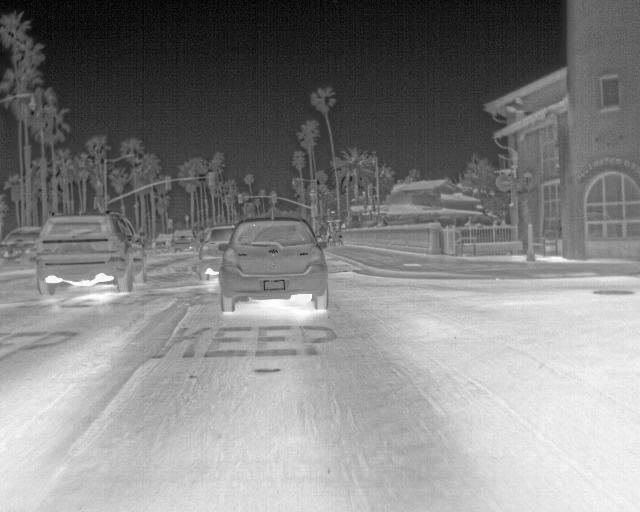bicycle: (219, 216, 332, 313), (34, 211, 146, 293), (197, 223, 240, 281), (0, 222, 45, 267), (171, 226, 194, 254), (152, 232, 173, 252)
